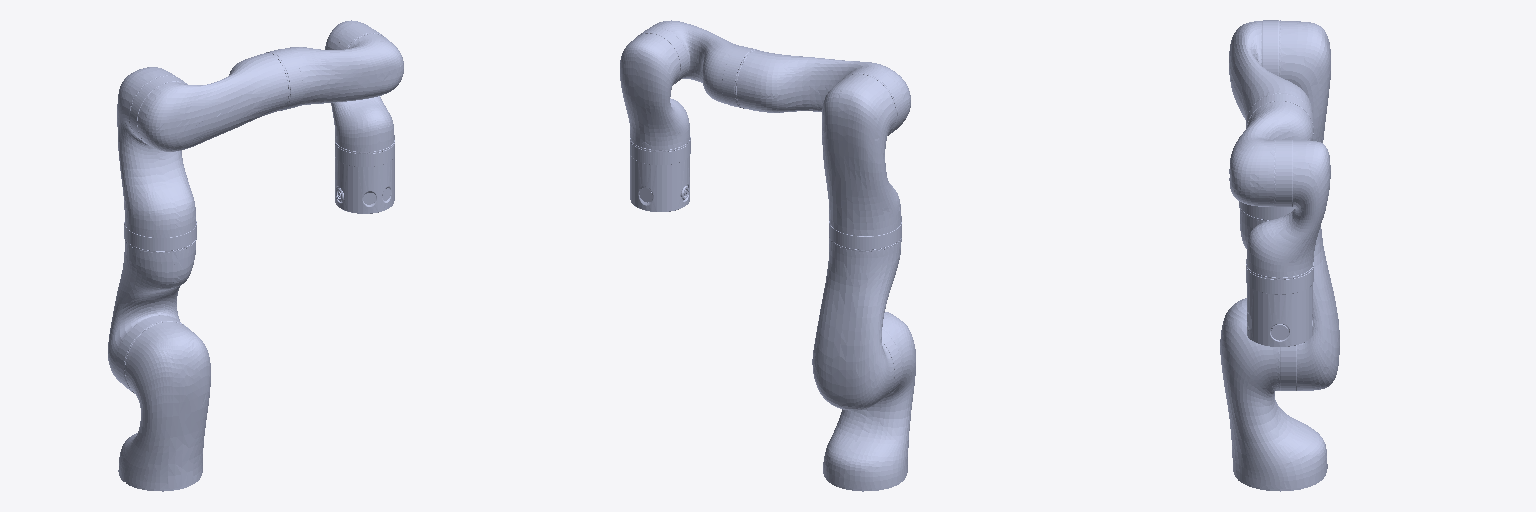
robot.urdf — tl_tcb605:
<?xml version="1.0" encoding="utf-8"?>
<!-- This URDF was automatically created by SolidWorks to URDF Exporter! Originally created by Stephen Brawner (brawner@gmail.com) 
     Commit Version: 1.6.0-4-g7f85cfe  Build Version: 1.6.7995.38578
     For more information, please see http://wiki.ros.org/sw_urdf_exporter -->
<robot
  name="tl_tcb605">
  <link
    name="link0">
    <inertial>
      <origin
        xyz="0.000708831292588158 -8.61075349149198E-05 0.0437241147546662"
        rpy="0 0 0" />
      <mass
        value="0.184997778677384" />
      <inertia
        ixx="0.000408655880224899"
        ixy="-6.47925326858519E-07"
        ixz="3.45905947380275E-06"
        iyy="0.000402045698173365"
        iyz="-4.42033155327602E-07"
        izz="0.000394929591269372" />
    </inertial>
    <visual>
      <origin
        xyz="0 0 0"
        rpy="0 0 0" />
      <geometry>
        <mesh
          filename="package://tl_description/meshes/tl_tcb605/link0.STL" />
      </geometry>
      <material
        name="">
        <color
          rgba="0.792156862745098 0.819607843137255 0.933333333333333 1" />
      </material>
    </visual>
    <collision>
      <origin
        xyz="0 0 0"
        rpy="0 0 0" />
      <geometry>
        <mesh
          filename="package://tl_description/meshes/tl_tcb605/link0.STL" />
      </geometry>
    </collision>
  </link>
  <link
    name="link1">
    <inertial>
      <origin
        xyz="-1.4189019277123E-05 -0.0147043432758809 0.0739725067130976"
        rpy="0 0 0" />
      <mass
        value="0.140788242034027" />
      <inertia
        ixx="0.000389189148274927"
        ixy="9.56014640707244E-09"
        ixz="-4.0052899016415E-08"
        iyy="0.000404624430565959"
        iyz="5.39754948564024E-05"
        izz="0.000158805233771653" />
    </inertial>
    <visual>
      <origin
        xyz="0 0 0"
        rpy="0 0 0" />
      <geometry>
        <mesh
          filename="package://tl_description/meshes/tl_tcb605/link1.STL" />
      </geometry>
      <material
        name="">
        <color
          rgba="0.792156862745098 0.819607843137255 0.933333333333333 1" />
      </material>
    </visual>
    <collision>
      <origin
        xyz="0 0 0"
        rpy="0 0 0" />
      <geometry>
        <mesh
          filename="package://tl_description/meshes/tl_tcb605/link1.STL" />
      </geometry>
    </collision>
  </link>
  <joint
    name="joint1"
    type="revolute">
    <origin
      xyz="0 0 0.11455"
      rpy="0 0 0" />
    <parent
      link="link0" />
    <child
      link="link1" />
    <axis
      xyz="0 0 1" />
    <limit
      lower="-3.1416"
      upper="3.1416"
      effort="0"
      velocity="0" />
  </joint>
  <link
    name="link2">
    <inertial>
      <origin
        xyz="-5.77644066727023E-05 -0.131538813620555 0.00870306373865762"
        rpy="0 0 0" />
      <mass
        value="0.239040103299143" />
      <inertia
        ixx="0.00212988128764185"
        ixy="-2.31815602694513E-06"
        ixz="-2.30266660869459E-07"
        iyy="0.000220516873285885"
        iyz="-8.89923131514912E-05"
        izz="0.00214689936814682" />
    </inertial>
    <visual>
      <origin
        xyz="0 0 0"
        rpy="0 0 0" />
      <geometry>
        <mesh
          filename="package://tl_description/meshes/tl_tcb605/link2.STL" />
      </geometry>
      <material
        name="">
        <color
          rgba="0.792156862745098 0.819607843137255 0.933333333333333 1" />
      </material>
    </visual>
    <collision>
      <origin
        xyz="0 0 0"
        rpy="0 0 0" />
      <geometry>
        <mesh
          filename="package://tl_description/meshes/tl_tcb605/link2.STL" />
      </geometry>
    </collision>
  </link>
  <joint
    name="joint2"
    type="revolute">
    <origin
      xyz="0 0.00715 0.12725"
      rpy="-1.5708 0 0" />
    <parent
      link="link1" />
    <child
      link="link2" />
    <axis
      xyz="0 0 -1" />
    <limit
      lower="-2.4086"
      upper="2.4086"
      effort="0"
      velocity="0" />
  </joint>
  <link
    name="link3">
    <inertial>
      <origin
        xyz="-6.4654514757336E-06 0.0577535239527633 0.008784714716598"
        rpy="0 0 0" />
      <mass
        value="0.0945260086055452" />
      <inertia
        ixx="0.00023778584092464"
        ixy="5.31249474241417E-08"
        ixz="-1.09590834492674E-09"
        iyy="6.42616332896738E-05"
        iyz="4.60316398883806E-05"
        izz="0.000240859287939656" />
    </inertial>
    <visual>
      <origin
        xyz="0 0 0"
        rpy="0 0 0" />
      <geometry>
        <mesh
          filename="package://tl_description/meshes/tl_tcb605/link3.STL" />
      </geometry>
      <material
        name="">
        <color
          rgba="0.792156862745098 0.819607843137255 0.933333333333333 1" />
      </material>
    </visual>
    <collision>
      <origin
        xyz="0 0 0"
        rpy="0 0 0" />
      <geometry>
        <mesh
          filename="package://tl_description/meshes/tl_tcb605/link3.STL" />
      </geometry>
    </collision>
  </link>
  <joint
    name="joint3"
    type="revolute">
    <origin
      xyz="0 -0.2698 -0.0155"
      rpy="3.1416 0 1.5708" />
    <parent
      link="link2" />
    <child
      link="link3" />
    <axis
      xyz="0 0 1" />
    <limit
      lower="-0.9250"
      upper="4.0666"
      effort="0"
      velocity="0" />
  </joint>
  <link
    name="link4">
    <inertial>
      <origin
        xyz="1.01595879248386E-05 -0.0129940451387686 0.0552922897700905"
        rpy="0 0 0" />
      <mass
        value="0.0720848621519884" />
      <inertia
        ixx="0.000105414963401844"
        ixy="1.21054796383402E-08"
        ixz="2.49650485751512E-09"
        iyy="0.000106134748275128"
        iyz="1.86457215856065E-05"
        izz="4.55695460353684E-05" />
    </inertial>
    <visual>
      <origin
        xyz="0 0 0"
        rpy="0 0 0" />
      <geometry>
        <mesh
          filename="package://tl_description/meshes/tl_tcb605/link4.STL" />
      </geometry>
      <material
        name="">
        <color
          rgba="0.792156862745098 0.819607843137255 0.933333333333333 1" />
      </material>
    </visual>
    <collision>
      <origin
        xyz="0 0 0"
        rpy="0 0 0" />
      <geometry>
        <mesh
          filename="package://tl_description/meshes/tl_tcb605/link4.STL" />
      </geometry>
    </collision>
  </link>
  <joint
    name="joint4"
    type="revolute">
    <origin
      xyz="0 0.13665 -0.00835"
      rpy="-1.5708 0 0" />
    <parent
      link="link3" />
    <child
      link="link4" />
    <axis
      xyz="0 0 1" />
    <limit
      lower="-3.1416"
      upper="3.1416"
      effort="0"
      velocity="0" />
  </joint>
  <link
    name="link5">
    <inertial>
      <origin
        xyz="-1.08598914177645E-06 -0.0369306855244047 0.0120181266109867"
        rpy="0 0 0" />
      <mass
        value="0.0641129630183189" />
      <inertia
        ixx="9.88028591813986E-05"
        ixy="7.5717224187372E-09"
        ixz="-3.11345423356035E-09"
        iyy="4.10033831547315E-05"
        iyz="-2.1091489212269E-05"
        izz="9.73769585809543E-05" />
    </inertial>
    <visual>
      <origin
        xyz="0 0 0"
        rpy="0 0 0" />
      <geometry>
        <mesh
          filename="package://tl_description/meshes/tl_tcb605/link5.STL" />
      </geometry>
      <material
        name="">
        <color
          rgba="0.792156862745098 0.819607843137255 0.933333333333333 1" />
      </material>
    </visual>
    <collision>
      <origin
        xyz="0 0 0"
        rpy="0 0 0" />
      <geometry>
        <mesh
          filename="package://tl_description/meshes/tl_tcb605/link5.STL" />
      </geometry>
    </collision>
  </link>
  <joint
    name="joint5"
    type="revolute">
    <origin
      xyz="0 0.00365 0.09315"
      rpy="-1.5708 1.5708 0" />
    <parent
      link="link4" />
    <child
      link="link5" />
    <axis
      xyz="0 0 1" />
    <limit
      lower="-3.8921"
      upper="0.7505"
      effort="0"
      velocity="0" />
  </joint>
  <link
    name="link6">
    <inertial>
      <origin
        xyz="0.000439337912566573 -0.00011463025532038 0.0338360355605593"
        rpy="0 0 0" />
      <mass
        value="0.0531024374144144" />
      <inertia
        ixx="3.09184116553573E-05"
        ixy="-1.15972581719981E-08"
        ixz="-2.34766421628408E-07"
        iyy="3.18708092165576E-05"
        iyz="6.28848515529739E-08"
        izz="3.41446110066842E-05" />
    </inertial>
    <visual>
      <origin
        xyz="0 0 0"
        rpy="0 0 0" />
      <geometry>
        <mesh
          filename="package://tl_description/meshes/tl_tcb605/link6.STL" />
      </geometry>
      <material
        name="">
        <color
          rgba="0.792156862745098 0.819607843137255 0.933333333333333 1" />
      </material>
    </visual>
    <collision>
      <origin
        xyz="0 0 0"
        rpy="0 0 0" />
      <geometry>
        <mesh
          filename="package://tl_description/meshes/tl_tcb605/link6.STL" />
      </geometry>
    </collision>
  </link>
  <joint
    name="joint6"
    type="revolute">
    <origin
      xyz="0 -0.09515 -0.00385"
      rpy="1.5708 0 0" />
    <parent
      link="link5" />
    <child
      link="link6" />
    <axis
      xyz="0 0 1" />
    <limit
      lower="-3.1416"
      upper="3.1416"
      effort="0"
      velocity="0" />
  </joint>
</robot>

--- Facts derived from the render (not from the file) ---
Views: 3 orthographic renders of the robot side by side, from view 1: azimuth 30°, elevation 25°; view 2: azimuth 150°, elevation 25°; view 3: azimuth 270°, elevation 25°.
Model tl_tcb605 with 7 links and 6 joints (6 revolute), rooted at link0, posed every joint at zero.
Links seen in each view (by area): view 1: link2, link1, link3, link4, link5, link6; view 2: link2, link1, link5, link3, link4, link6; view 3: link1, link2, link5, link4, link3, link6.
Link boxes in pixels (bbox=[...]): link2: bbox=[108, 67, 196, 383]; link1: bbox=[117, 315, 210, 491]; link3: bbox=[137, 49, 302, 151]; link4: bbox=[285, 28, 403, 106]; link5: bbox=[325, 20, 394, 166]; link6: bbox=[335, 157, 394, 213]; link2: bbox=[812, 68, 904, 410]; link1: bbox=[823, 312, 915, 491]; link5: bbox=[620, 33, 690, 164]; link3: bbox=[722, 46, 910, 126]; link4: bbox=[637, 20, 741, 103]; link6: bbox=[630, 155, 689, 211]; link1: bbox=[1220, 298, 1327, 491]; link2: bbox=[1239, 20, 1339, 390]; link5: bbox=[1246, 140, 1330, 294]; link4: bbox=[1229, 101, 1313, 206]; link3: bbox=[1229, 21, 1313, 136]; link6: bbox=[1247, 284, 1312, 346].
Bounding box of the posed robot: 0.3006 × 0.1036 × 0.4278 m (x, y, z).
6 mesh visuals loaded from 7 distinct referenced files (6 binary STL); not drawn: 1 (reference not matched to a file when rendering).
